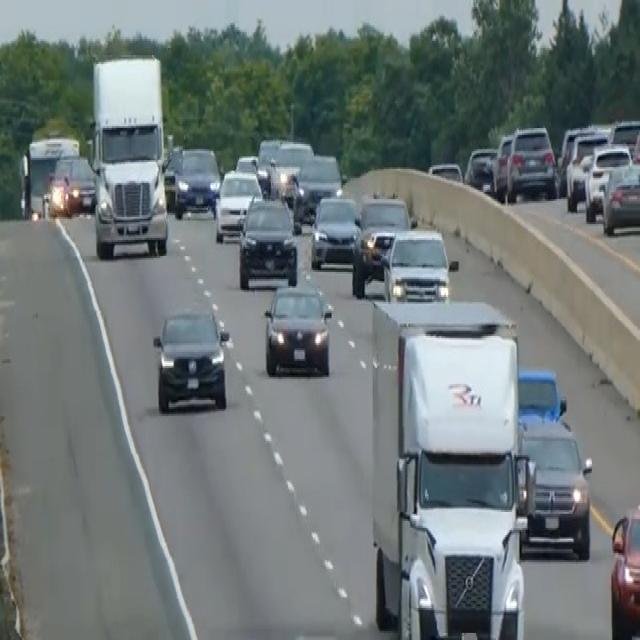car: (518, 414, 592, 560), (151, 304, 230, 414), (262, 279, 333, 377), (351, 192, 411, 295), (237, 194, 298, 288), (381, 224, 454, 302), (609, 498, 639, 638), (506, 123, 557, 201), (583, 140, 632, 220), (309, 192, 359, 268), (214, 165, 262, 242), (564, 130, 609, 212), (173, 144, 221, 219), (293, 151, 343, 222), (47, 151, 95, 217), (517, 366, 567, 428), (600, 158, 639, 235), (270, 139, 313, 192), (464, 144, 498, 196), (491, 130, 514, 197), (162, 142, 184, 208), (427, 158, 463, 183)
lorry: (368, 297, 536, 638), (87, 52, 169, 260)
